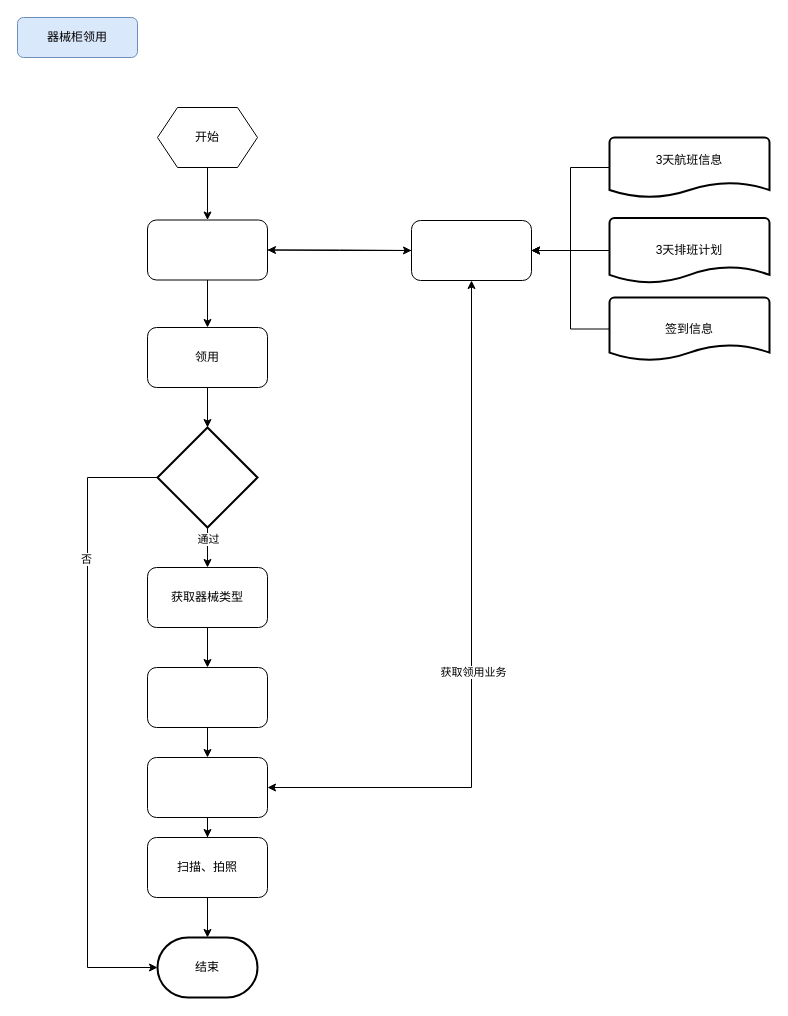
Some shapes in this 788 by 1016 pixel diagram are drawn without their labels. The shapes that lost their labels are listed below. From the top down, each one's centre as x and y in pixels, then its label:
point 207,249: 器械柜
point 471,250: 本地服务器每5分钟 调用接口
point 207,477: 验证身份 +排班信息
point 207,697: 开柜门、领出器械
point 207,787: 操作平台
